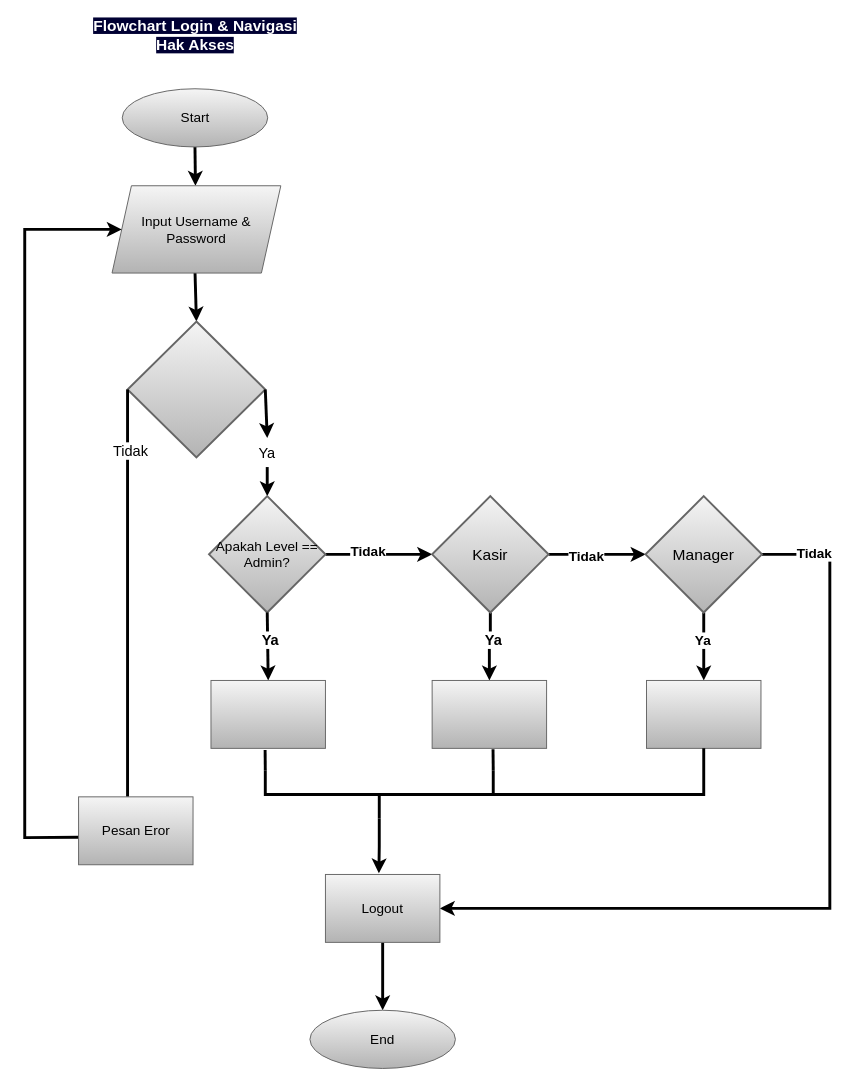
Some shapes in this 856 by 1085 pixel diagram are drawn without their labels. Here are the shapes that lost their labels. From the top down, the centre of each, then its label:
point (196, 389): Apakah Username & Password Valid?
point (267, 713): Menampilkan Dashboard Kelola Produk
point (489, 713): Menampilkan Form Transaksi
point (703, 713): Menampilkan Dashboard Laporan
